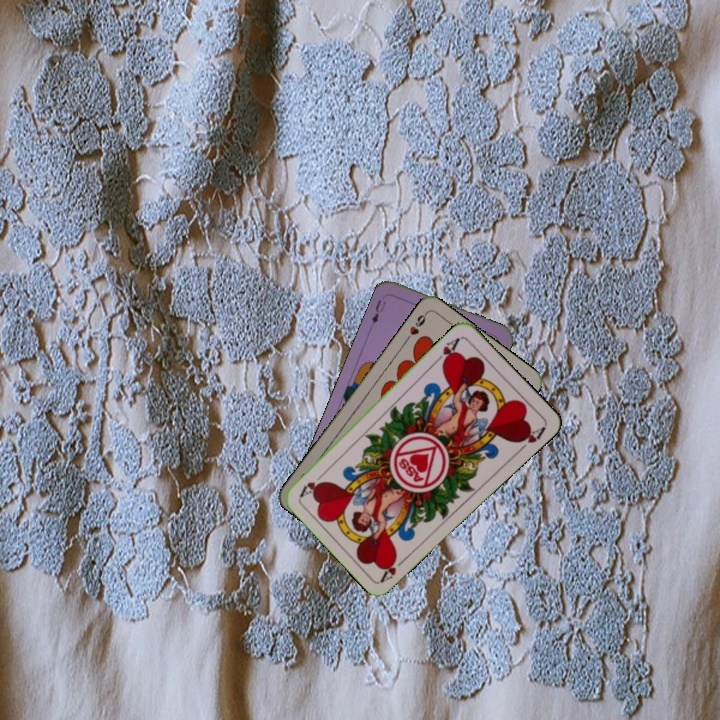EU: (368, 296, 389, 327)
H9: (402, 308, 430, 344)
HA: (431, 333, 463, 369), (377, 552, 410, 584)
